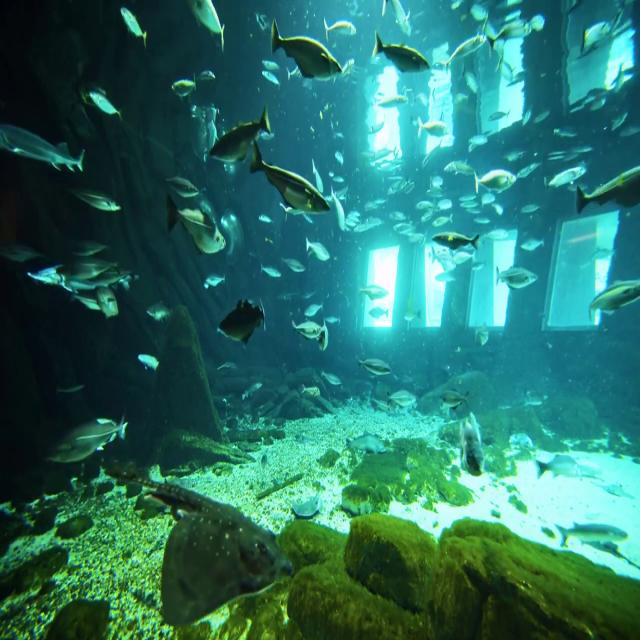fish: (250, 143, 327, 216), (0, 122, 88, 172), (270, 19, 344, 78), (206, 103, 271, 164), (575, 162, 640, 217), (166, 194, 225, 254), (60, 416, 128, 457), (584, 279, 640, 321), (218, 300, 266, 346), (374, 34, 429, 74), (473, 162, 518, 195), (431, 228, 481, 252), (292, 318, 329, 349)
